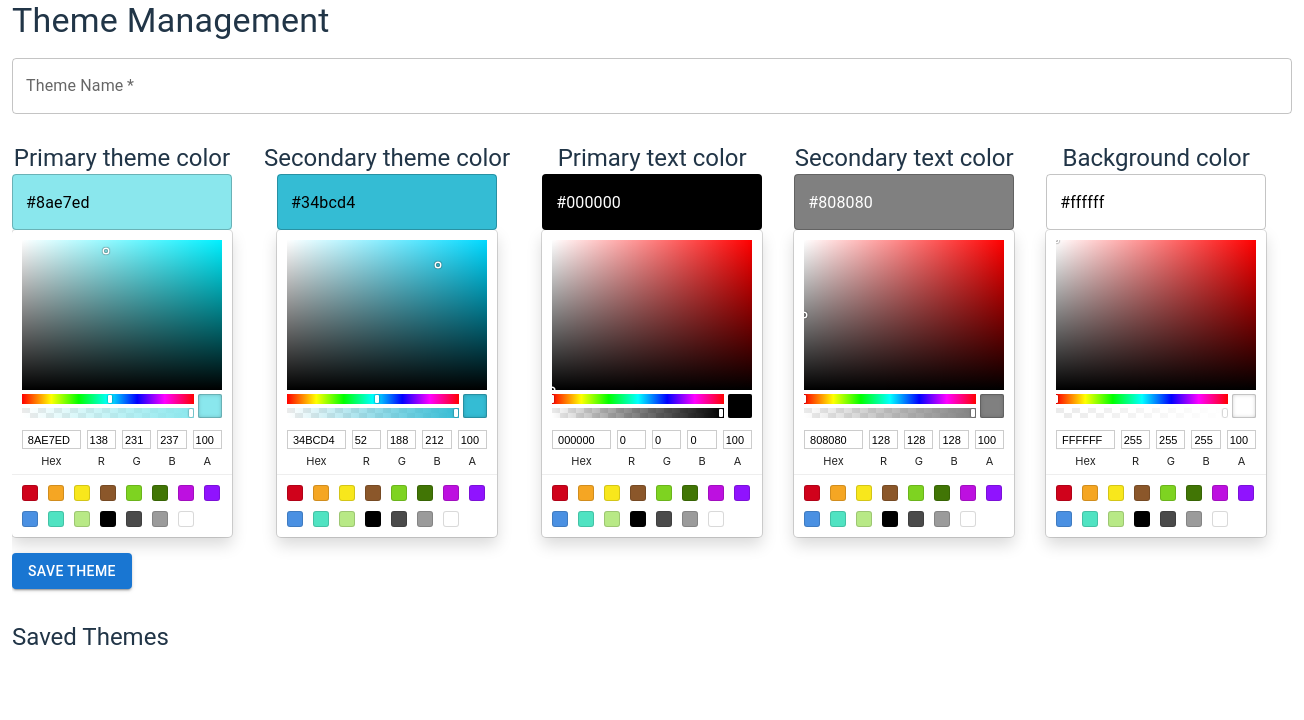
Test: ThemeSection › submits a new theme and appends it to the list
# Change name of theme to Dark
Step 1. Type "Dark" into the field labelled "Theme Name *" → [652, 86], box [12,58,1292,114]
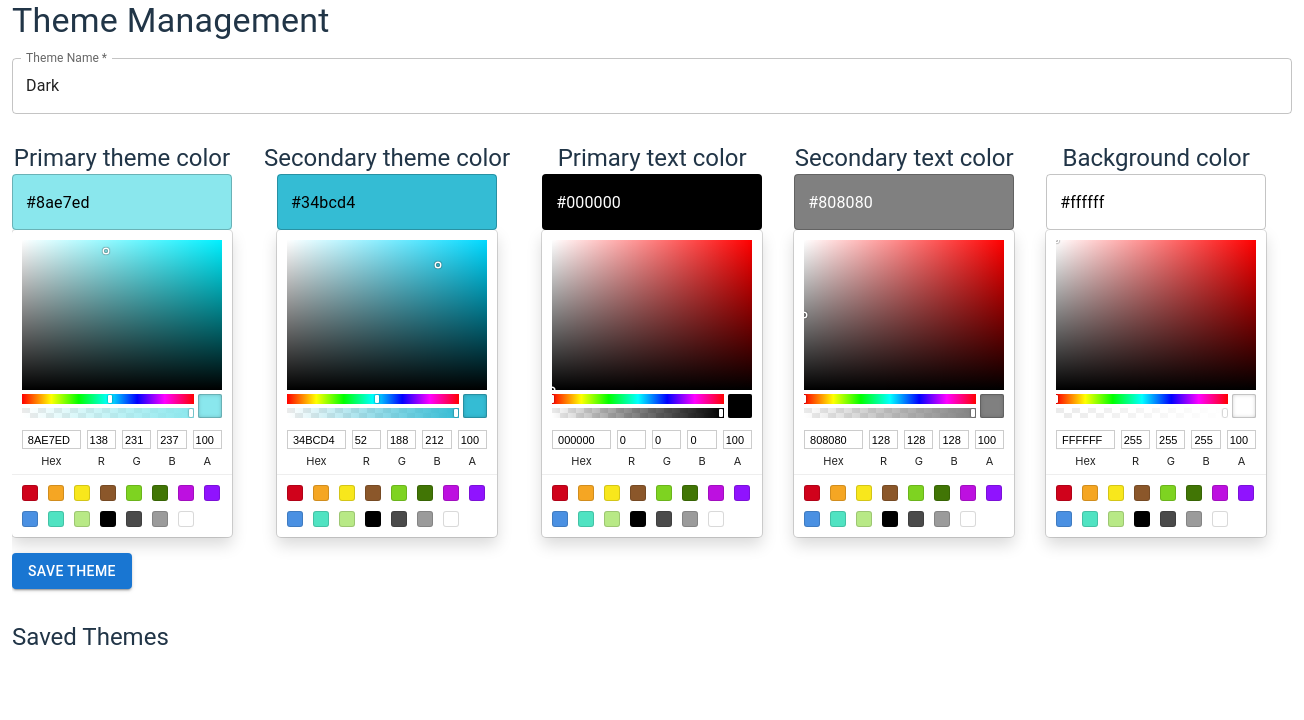
# Save theme
Step 2. Click the button "Save Theme" → [72, 571], box [12,552,132,589]
(page scrolled)
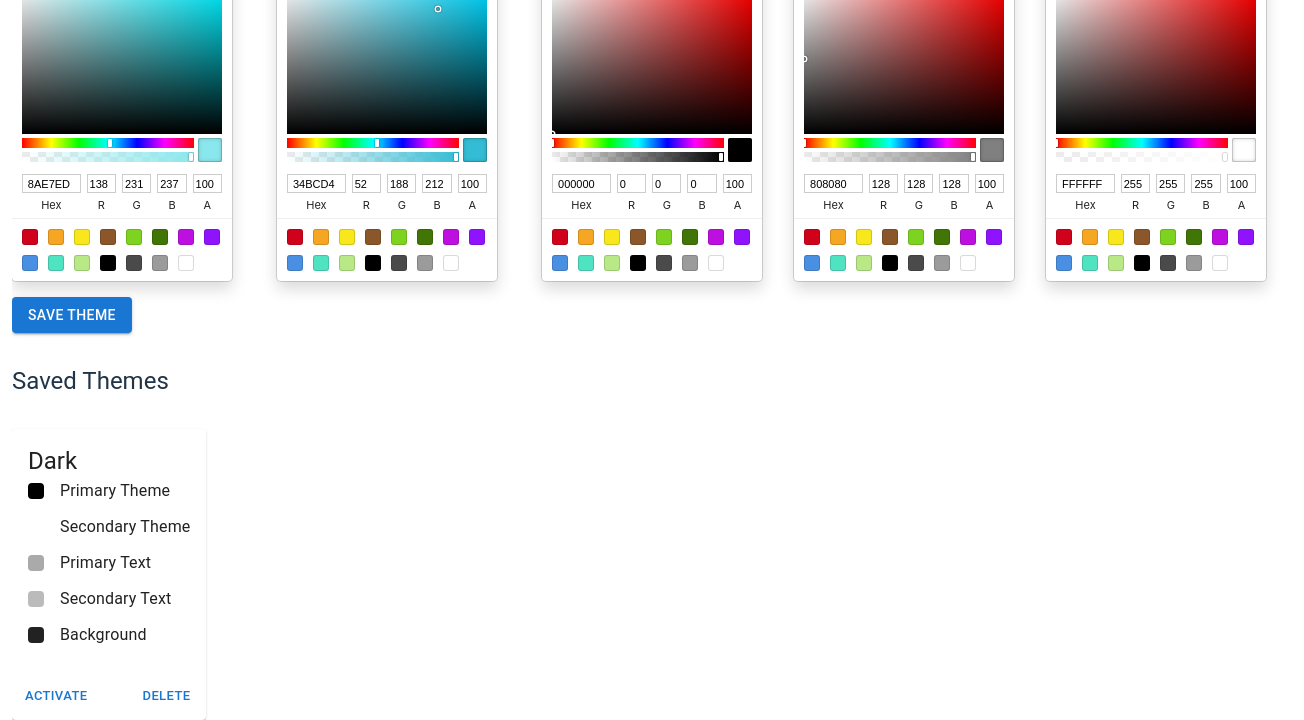
Expected: the text "Dark" is shown, [28,447,77,475]
